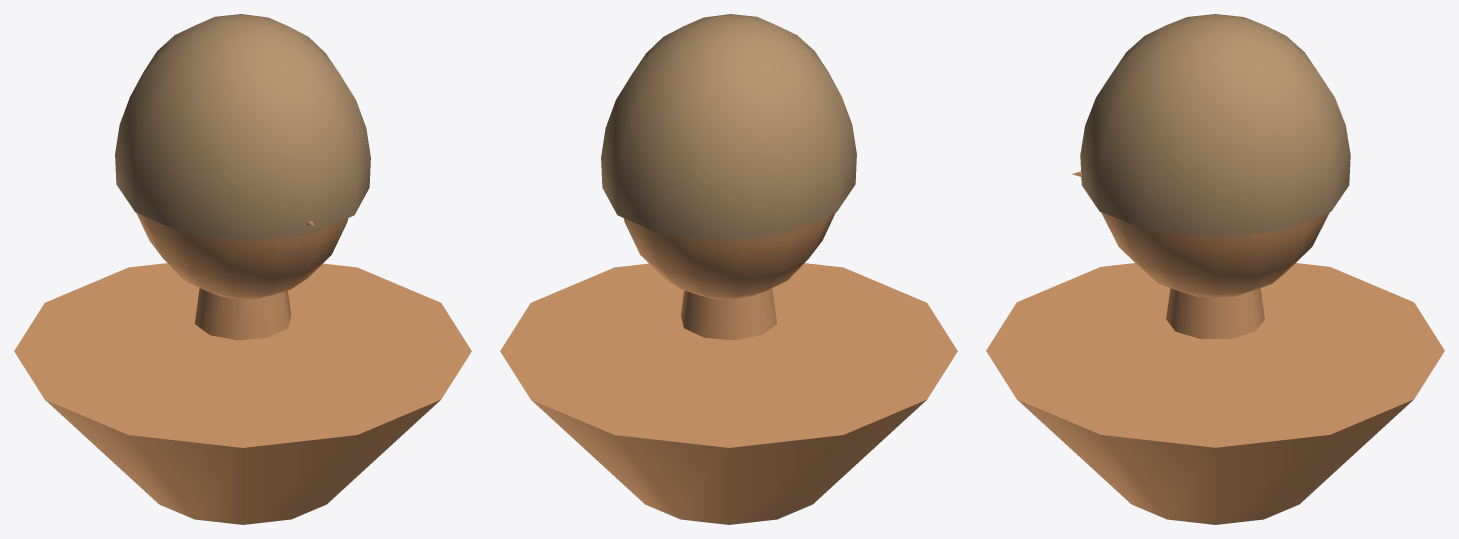
Rendered from portrait02t_003.glb.
The picture shows the model from 3 angles, left to right: view 1: azimuth 30°, elevation 25°; view 2: azimuth 150°, elevation 25°; view 3: azimuth 270°, elevation 25°; orthographic projection.
Bounding box in the file's own units: 1.95 × 2.16 × 1.95.
